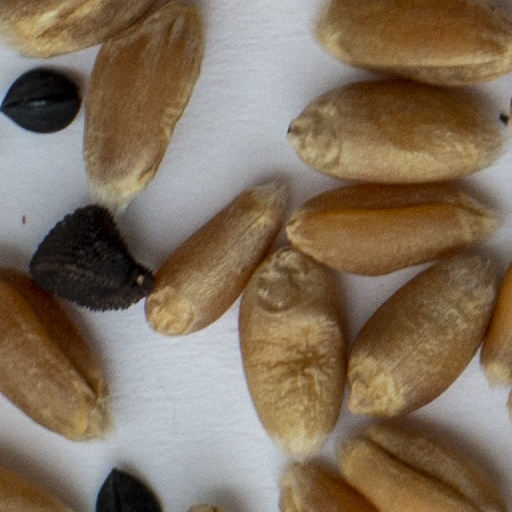Fallopia-Convolvulus-poly: (0, 63, 82, 137), (93, 464, 162, 511)
